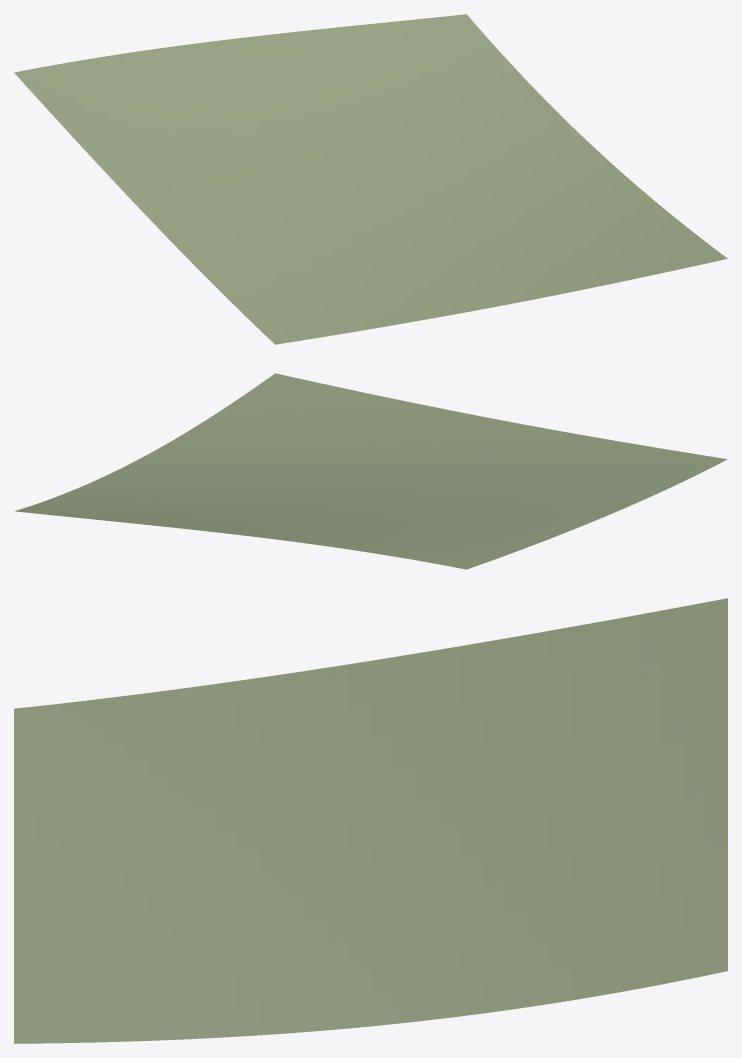
Rendered from alpine-14-14.glb.
The picture shows the model from 3 angles, top to bottom: view 1: azimuth 30°, elevation 25°; view 2: azimuth 150°, elevation 25°; view 3: azimuth 270°, elevation 25°; orthographic projection. The views are drawn at different scales.
Visible parts, largest first — view 1: alpine-14-14; view 2: alpine-14-14; view 3: alpine-14-14.
Part boxes in pixels (bbox=[...]): alpine-14-14: bbox=[14, 14, 727, 344]; alpine-14-14: bbox=[15, 373, 727, 569]; alpine-14-14: bbox=[14, 598, 727, 1043].
Bounding box in the file's own units: 256 × 56.94 × 256.
